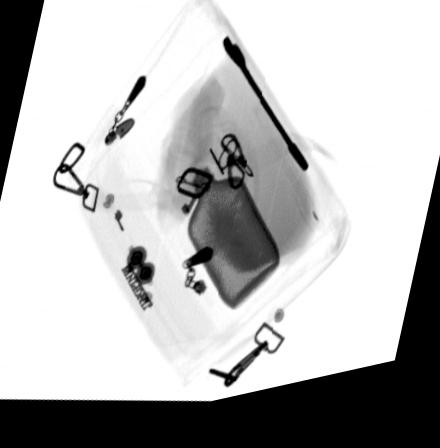Wrench: (220, 44, 308, 186)
